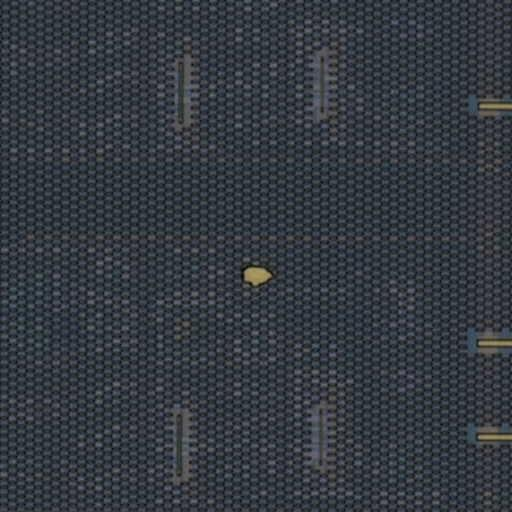BLOCK ETCH: (238, 257, 278, 297)
